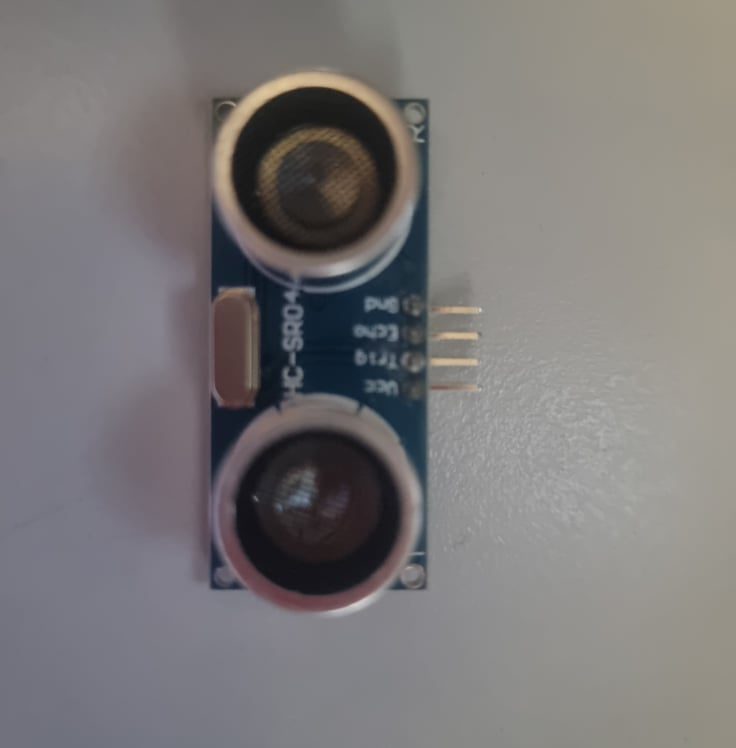SENSOR: (206, 67, 483, 626)
